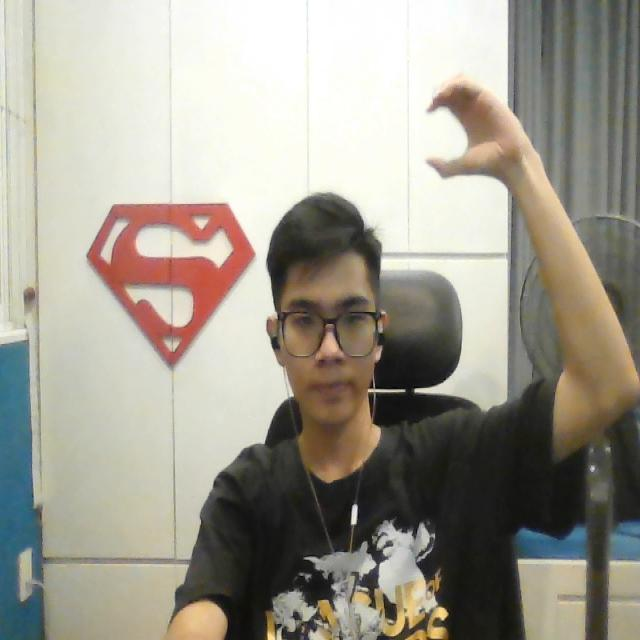C: (423, 76, 504, 182)
